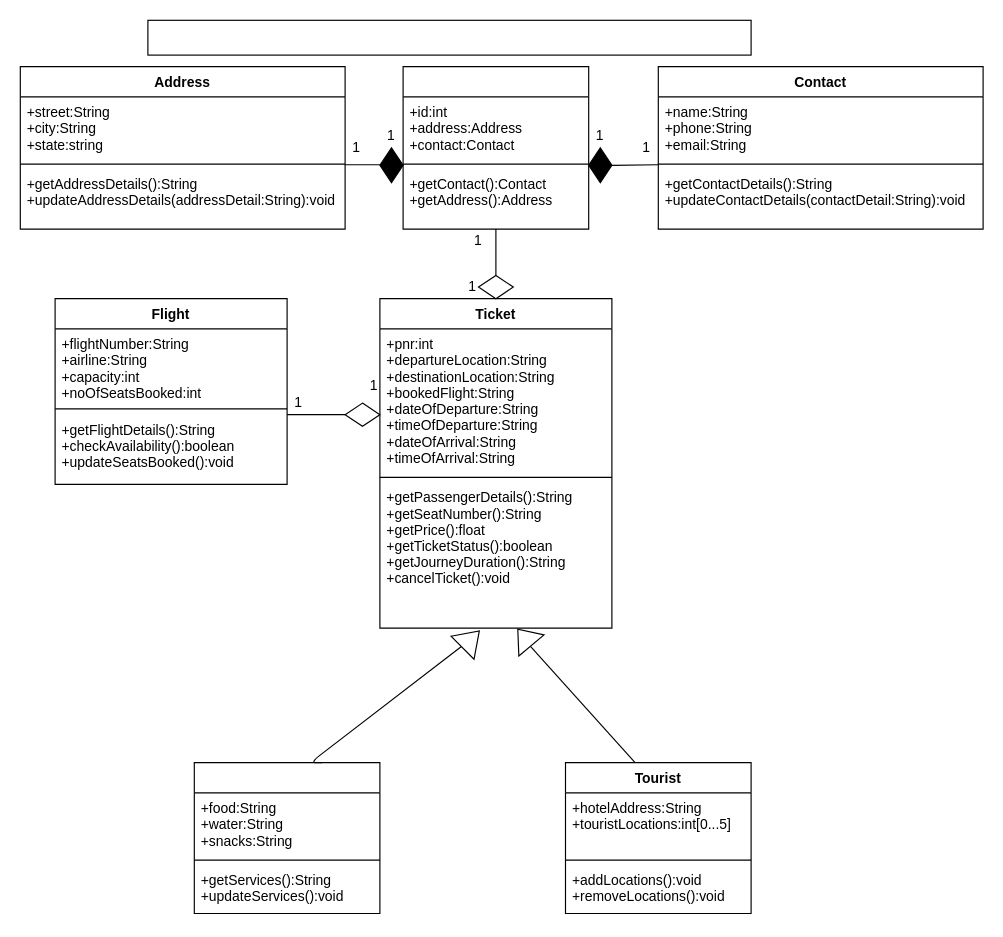
This 1003x937 diagram has some shape labels left out. The box of each missing label's shape, as (x1, y1, x2, y2) in pixels:
Flight Reservation System - UML: (147, 19, 751, 55)
Passenger: (402, 66, 589, 229)
Regular: (193, 762, 380, 913)
